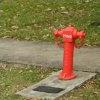a fire hydrant: (58, 26, 78, 82)
